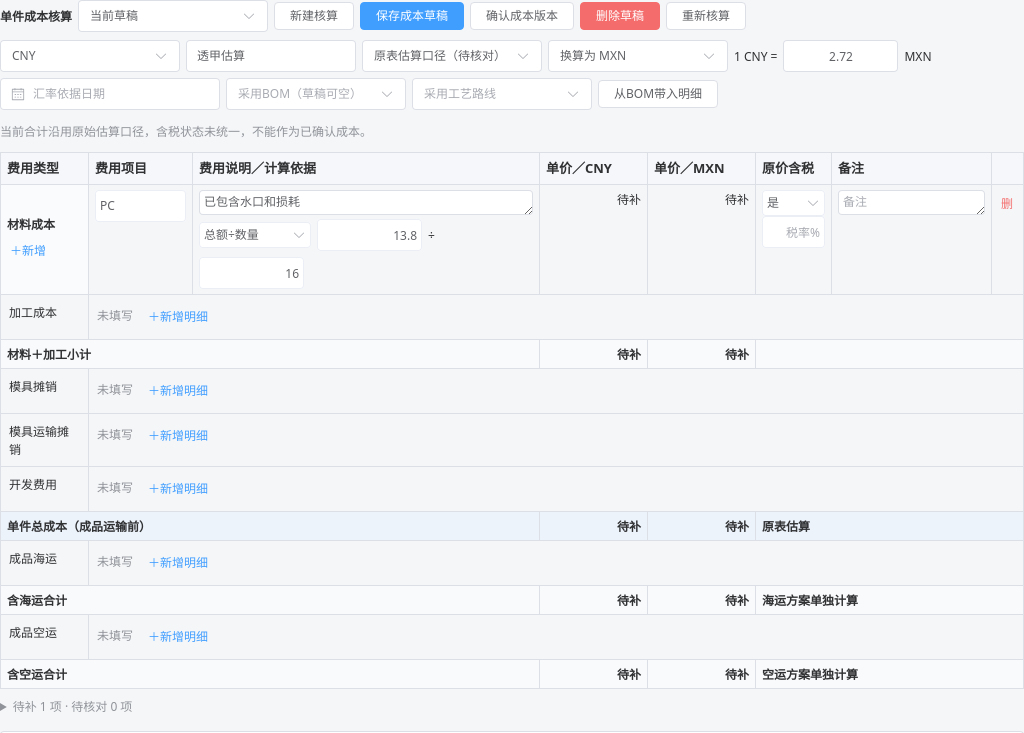
Test: single-cost spreadsheet actions › keeps unknown tax and FX dates blank and preserves inputs after a save failure
The width and height of the screenshot is (1024, 733).
Expected: the dropdown named "汇率依据日期" is empty, [33,79,209,109]
Replace the text in the field named "费用项目" with "PC原料" at (140, 206), box [100,191,181,221]
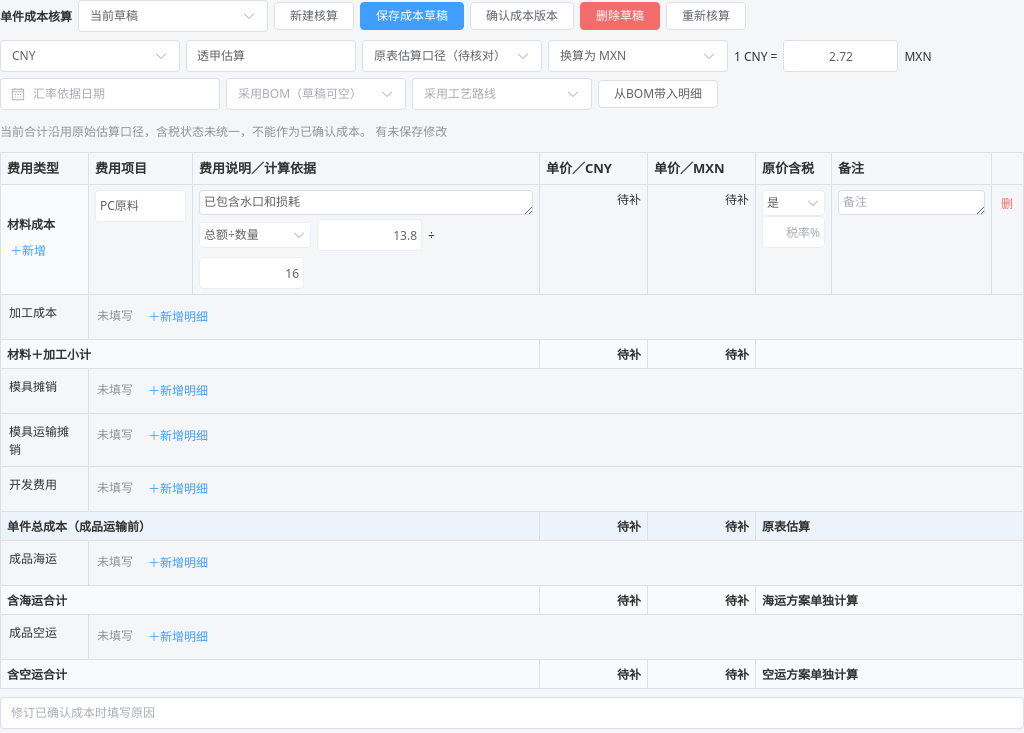
Click the button "保存成本草稿" at (412, 16), box [360,2,464,30]
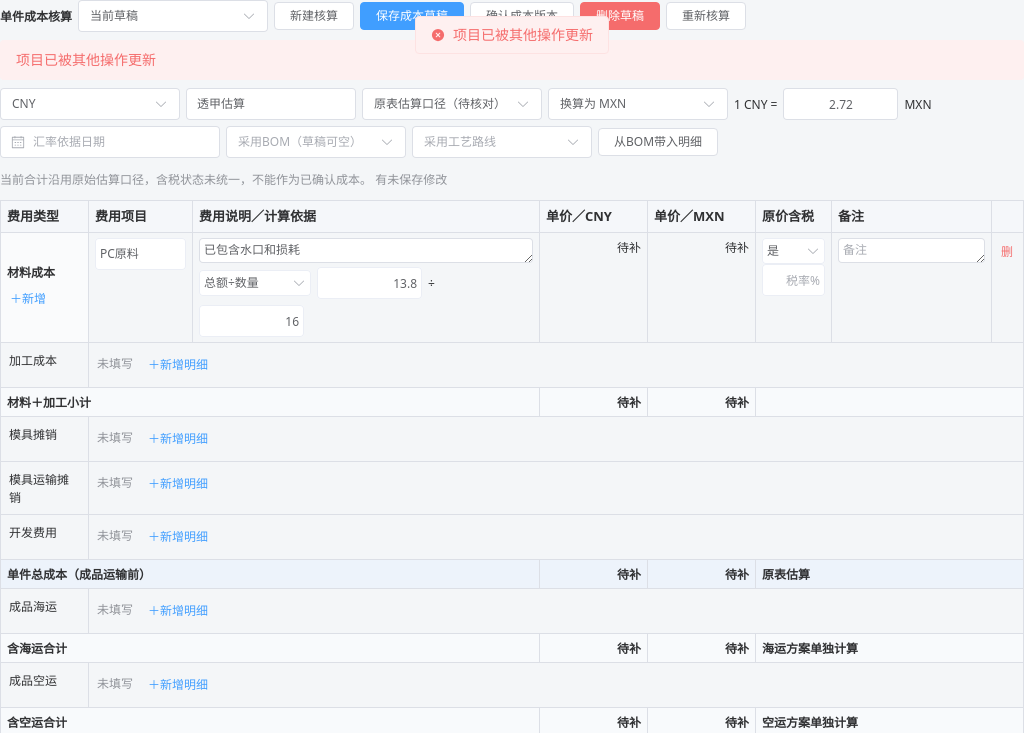
Result: the element named "单件成本核算" shows "项目已被其他操作更新" at [16,50,156,69]
